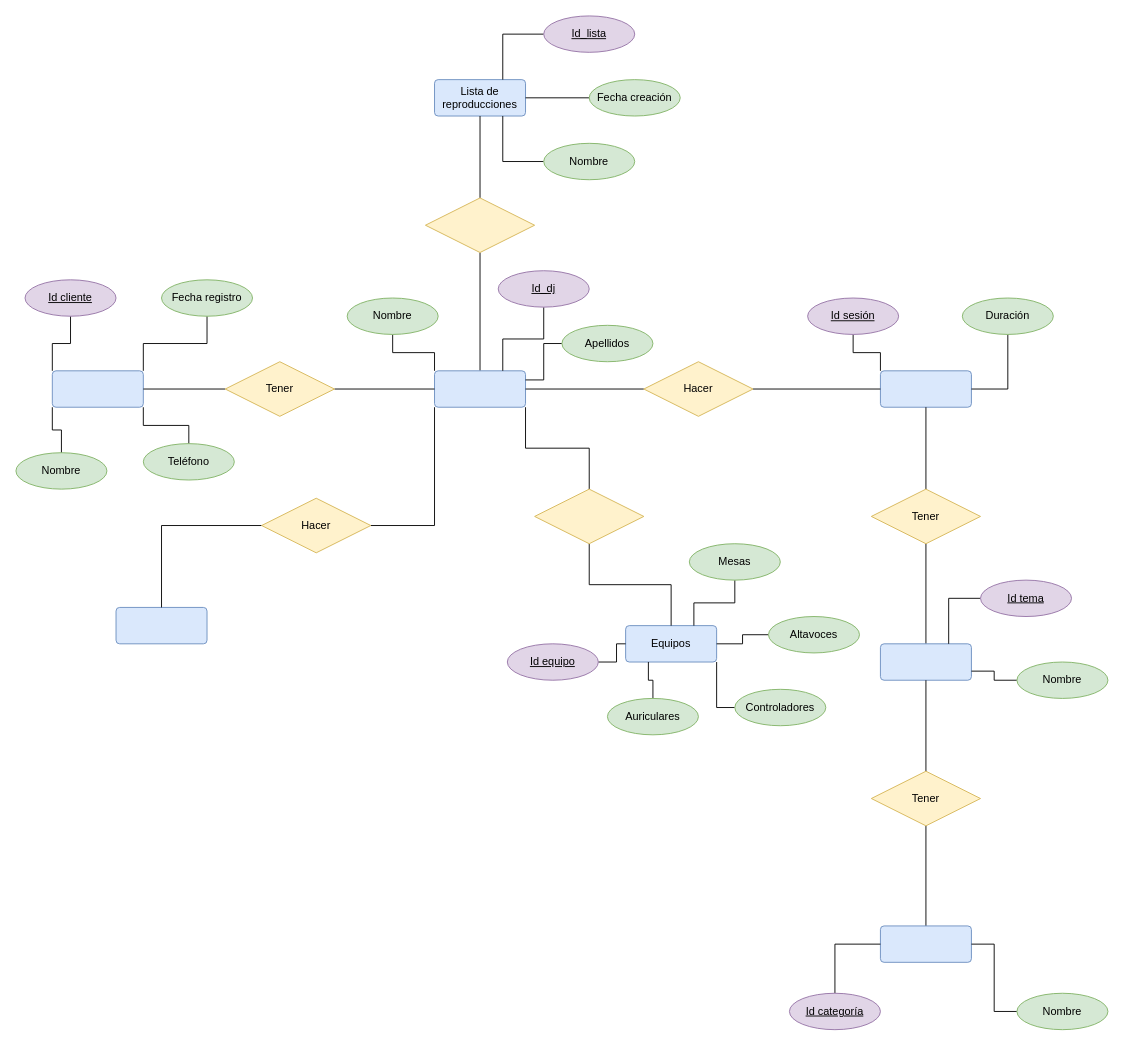
This 1124x1046 diagram has some shape labels left out. Each missing label, with the box of its shape:
Categoría: (880, 925, 971, 962)
Clientes: (51, 370, 143, 407)
Crear: (425, 197, 535, 253)
DJ: (434, 370, 526, 407)
Eventos: (115, 607, 207, 644)
Seciones: (880, 370, 971, 407)
Temas: (880, 643, 971, 680)
Usar: (534, 488, 644, 544)
